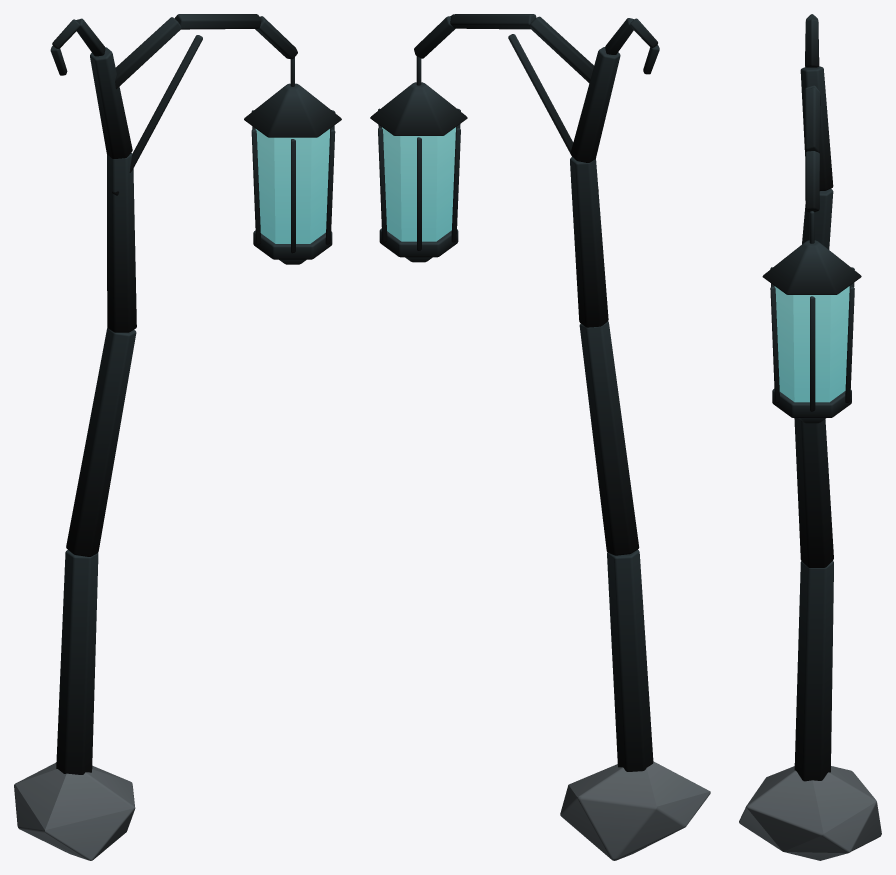
The model's file is fog_lantern.glb.
3 views of the same model, side by side, from view 1: azimuth 30°, elevation 25°; view 2: azimuth 150°, elevation 25°; view 3: azimuth 270°, elevation 25° (orthographic).
Visible parts, largest first — view 1: fog_lantern; view 2: fog_lantern; view 3: fog_lantern.
Part boxes in pixels (box(x1,y1,x2,y2)): fog_lantern: box(14, 14, 341, 860); fog_lantern: box(370, 14, 710, 860); fog_lantern: box(739, 14, 881, 860).
Bounding box in the file's own units: 1.35 × 3.46 × 0.5303.
Materials: 3 (3 with a texture image).
